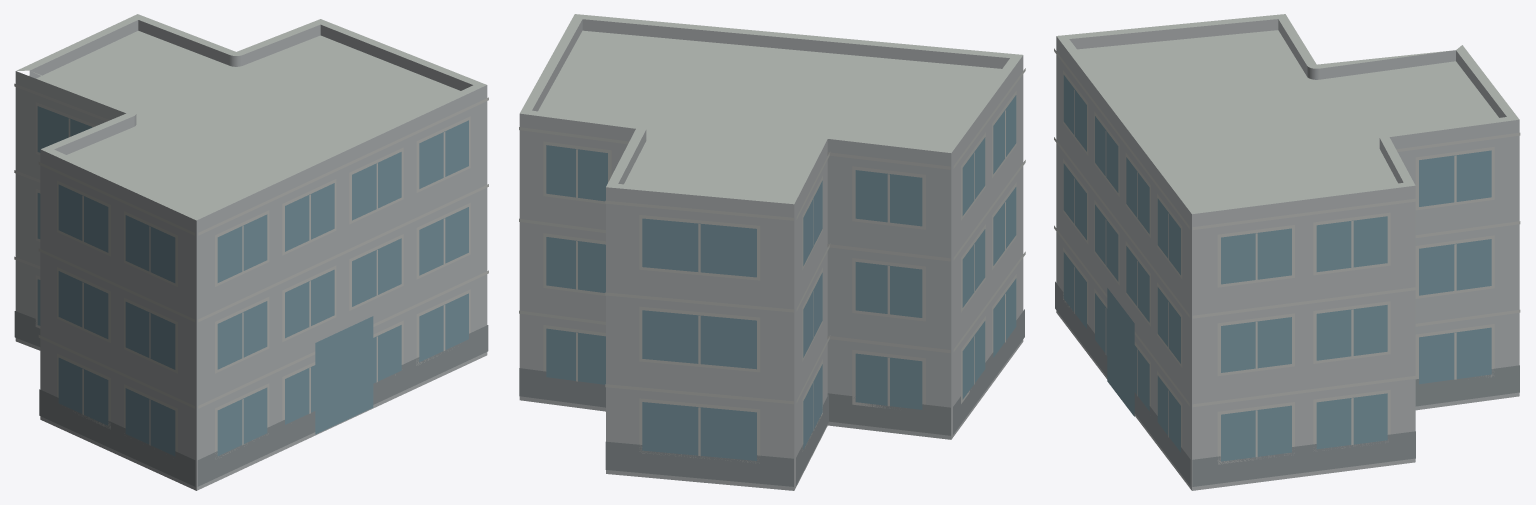
The model's file is public-ac2780ce-e15c-45c8-a591-c28659bd96ad.glb.
3 views of the same model, side by side, from view 1: azimuth 30°, elevation 25°; view 2: azimuth 150°, elevation 25°; view 3: azimuth 270°, elevation 25° (orthographic). The views are drawn at different scales.
Visible parts, largest first — view 1: public-ac2780ce-e15c-45c8-a591-c28659bd96ad; view 2: public-ac2780ce-e15c-45c8-a591-c28659bd96ad; view 3: public-ac2780ce-e15c-45c8-a591-c28659bd96ad.
Boxes of the visible parts, x1,y1,x2,y2 form: public-ac2780ce-e15c-45c8-a591-c28659bd96ad: (14,14,488,490); public-ac2780ce-e15c-45c8-a591-c28659bd96ad: (519,14,1025,490); public-ac2780ce-e15c-45c8-a591-c28659bd96ad: (1054,14,1520,490).
Bounding box in the file's own units: 14.33 × 9.15 × 14.01.
